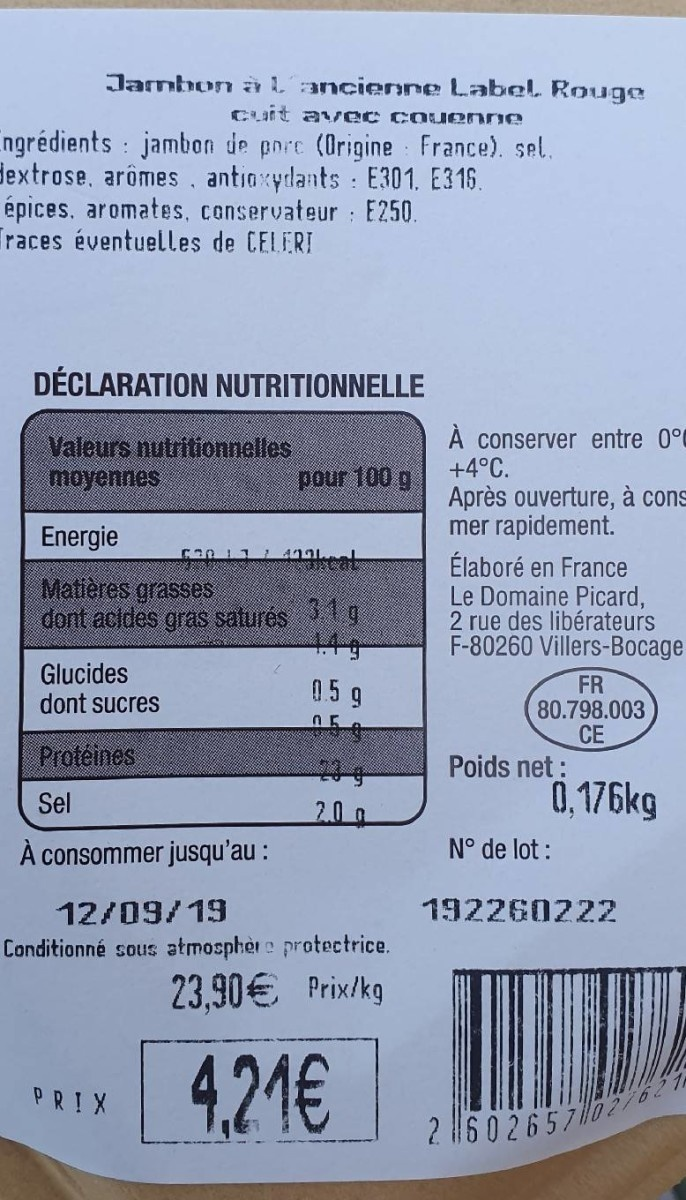column: (40, 515, 287, 817), (298, 515, 364, 824)
table: (18, 404, 429, 832)
